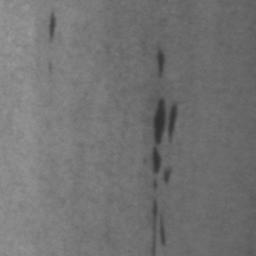Inclusion: (152, 96, 179, 142), (152, 148, 163, 175), (156, 50, 166, 76), (50, 13, 56, 38)
